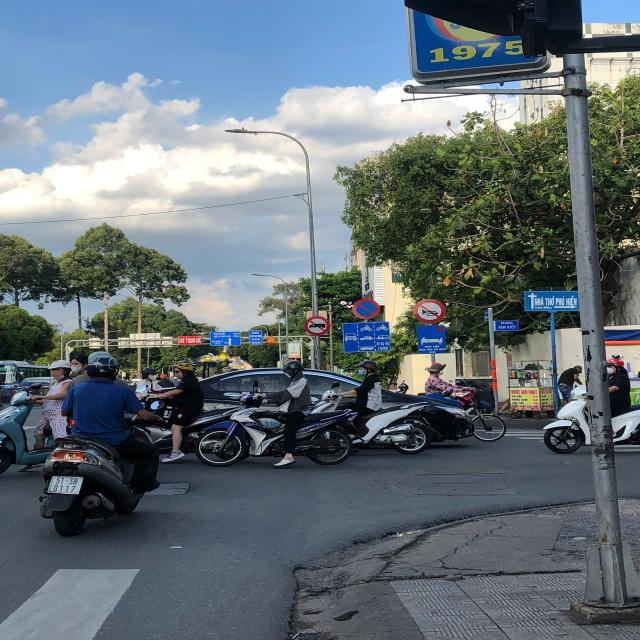Bien bao cam do xe: (350, 298, 385, 320)
Bien bao cam xe so-mi ro-mooc: (302, 313, 331, 338)
